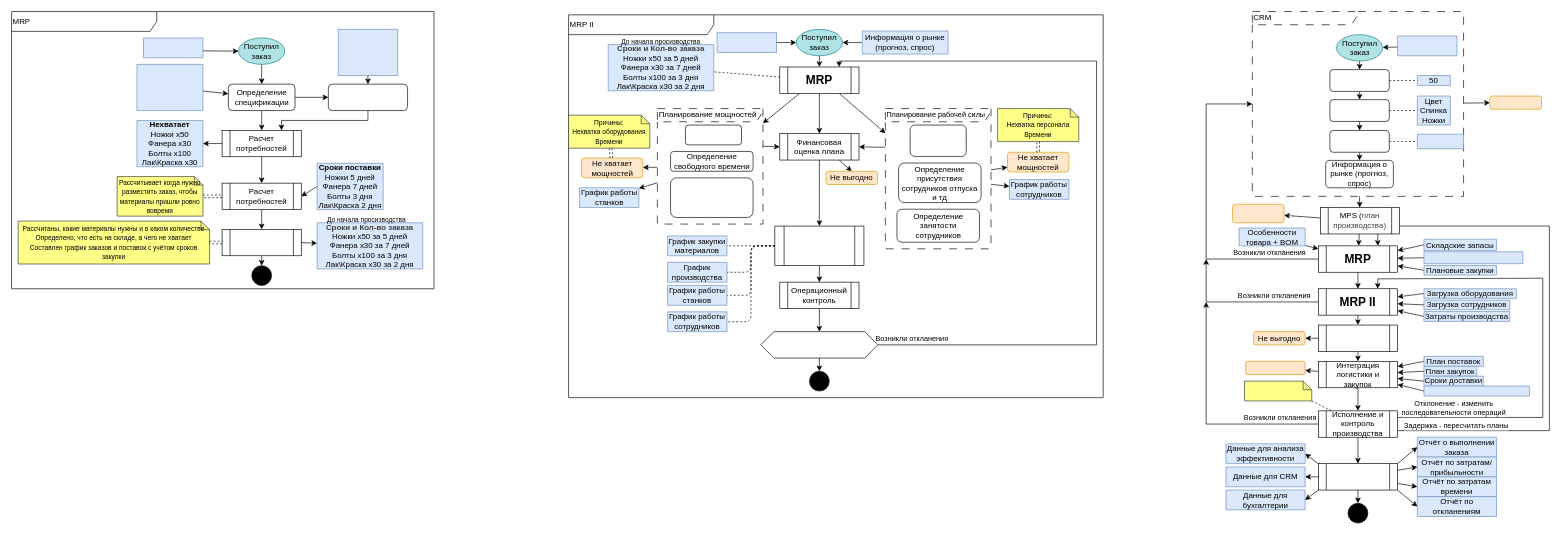
This 1566x535 diagram has some shape labels left out. The centre of each missing label's shape, as x and y in pixels:
2 месяца: the point at 1440,141
50 стульев: the point at 173,47
50 стульев за 2 месяца: the point at 746,42
BOM Ножки х4 Фанера х1 Болты х6 Лак\Краска х1: the point at 169,87
Большая загрузка: the point at 1258,213
Движение между складами: the point at 1476,390
Не выполнимо: the point at 1275,368
Определение возможности реализации за указанное время: the point at 711,197
Определение кол-ва: the point at 1359,80
Определение необходимых специалистов: the point at 937,140
Определение опций: the point at 1359,110
Определение остатков: the point at 368,97
Определение Сроков: the point at 1359,141
Определение станков: the point at 713,134
Отказ: the point at 1515,102
Отслеживание выполнения работ: the point at 1278,390
Отчётность: the point at 1358,476
Потребности материалов: the point at 1473,257
Склад Ножки х150 Фанера х200 Болты х300 Лак\Краска х20: the point at 368,52
Стулья: the point at 1427,45
Финансы и расчёт затрат: the point at 1358,337
Формирование плана поставок: the point at 261,242
Формирование плана поставок и графика производства: the point at 819,245
Что уже сделано? Где задержки? Возникли ли отклонения?: the point at 819,344
